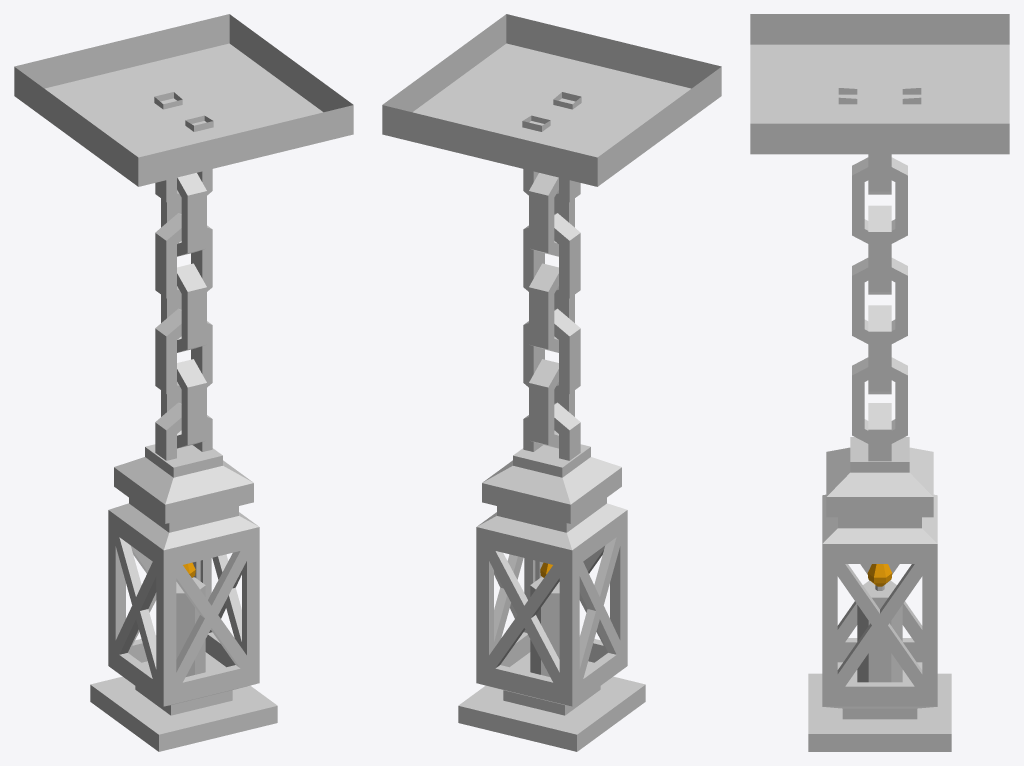
The model's file is NGF_Light_Hanging_lamp.fbx.
3 renders of one model, left to right at view 1: azimuth 30°, elevation 25°; view 2: azimuth 150°, elevation 25°; view 3: azimuth 270°, elevation 25°, orthographic. The views are drawn at different scales.
Visible parts, largest first — view 1: NGF_Light_Hanging_lamp, NGF_Light_Candle_large_01; view 2: NGF_Light_Hanging_lamp, NGF_Light_Candle_large_01; view 3: NGF_Light_Hanging_lamp, NGF_Light_Candle_large_01, NGF_Light_Candle_middle_01, NGF_Light_Candle_fire_01.
Boxes of the visible parts, x1,y1,x2,y2 form: NGF_Light_Hanging_lamp: (14, 14, 353, 751); NGF_Light_Candle_large_01: (176, 577, 205, 676); NGF_Light_Hanging_lamp: (382, 14, 721, 751); NGF_Light_Candle_large_01: (530, 577, 559, 676); NGF_Light_Hanging_lamp: (750, 14, 1009, 751); NGF_Light_Candle_large_01: (857, 581, 902, 682); NGF_Light_Candle_middle_01: (857, 624, 902, 682); NGF_Light_Candle_fire_01: (867, 564, 892, 586).
Bounding box in the file's own units: 0.7864 × 2.19 × 0.7864.
Materials: 1 (1 with a texture image).
